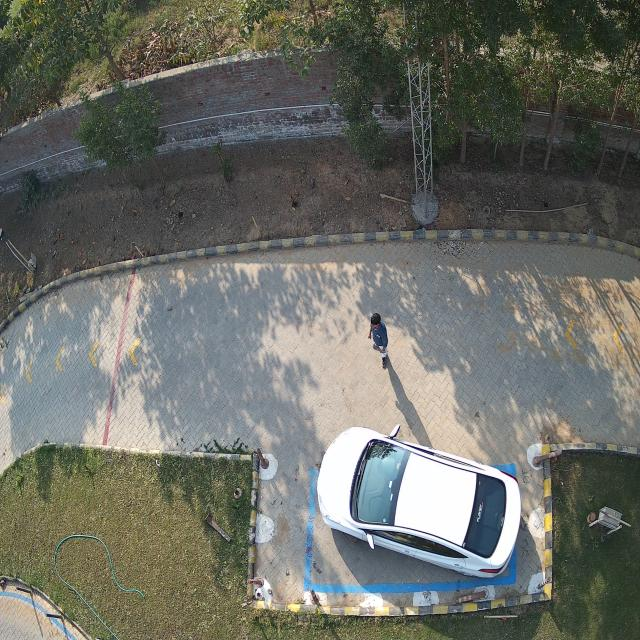car: (316, 427, 521, 577)
